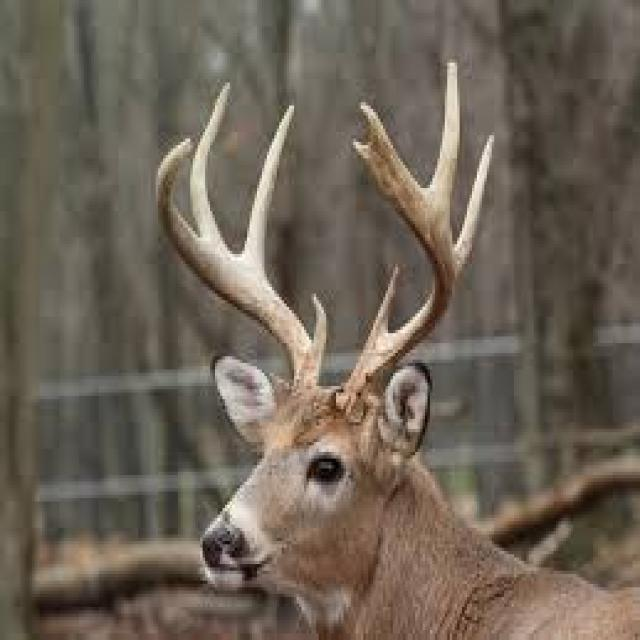E1: (359, 100, 394, 151)
L-F: (335, 136, 455, 423)
L-G1: (365, 263, 402, 342)
L-G2: (452, 132, 496, 286)
L-G3: (428, 59, 462, 221)
R-F: (155, 137, 320, 399)
R-G1: (307, 290, 327, 366)
R-G2: (242, 104, 296, 270)
R-G3: (189, 79, 231, 255)
